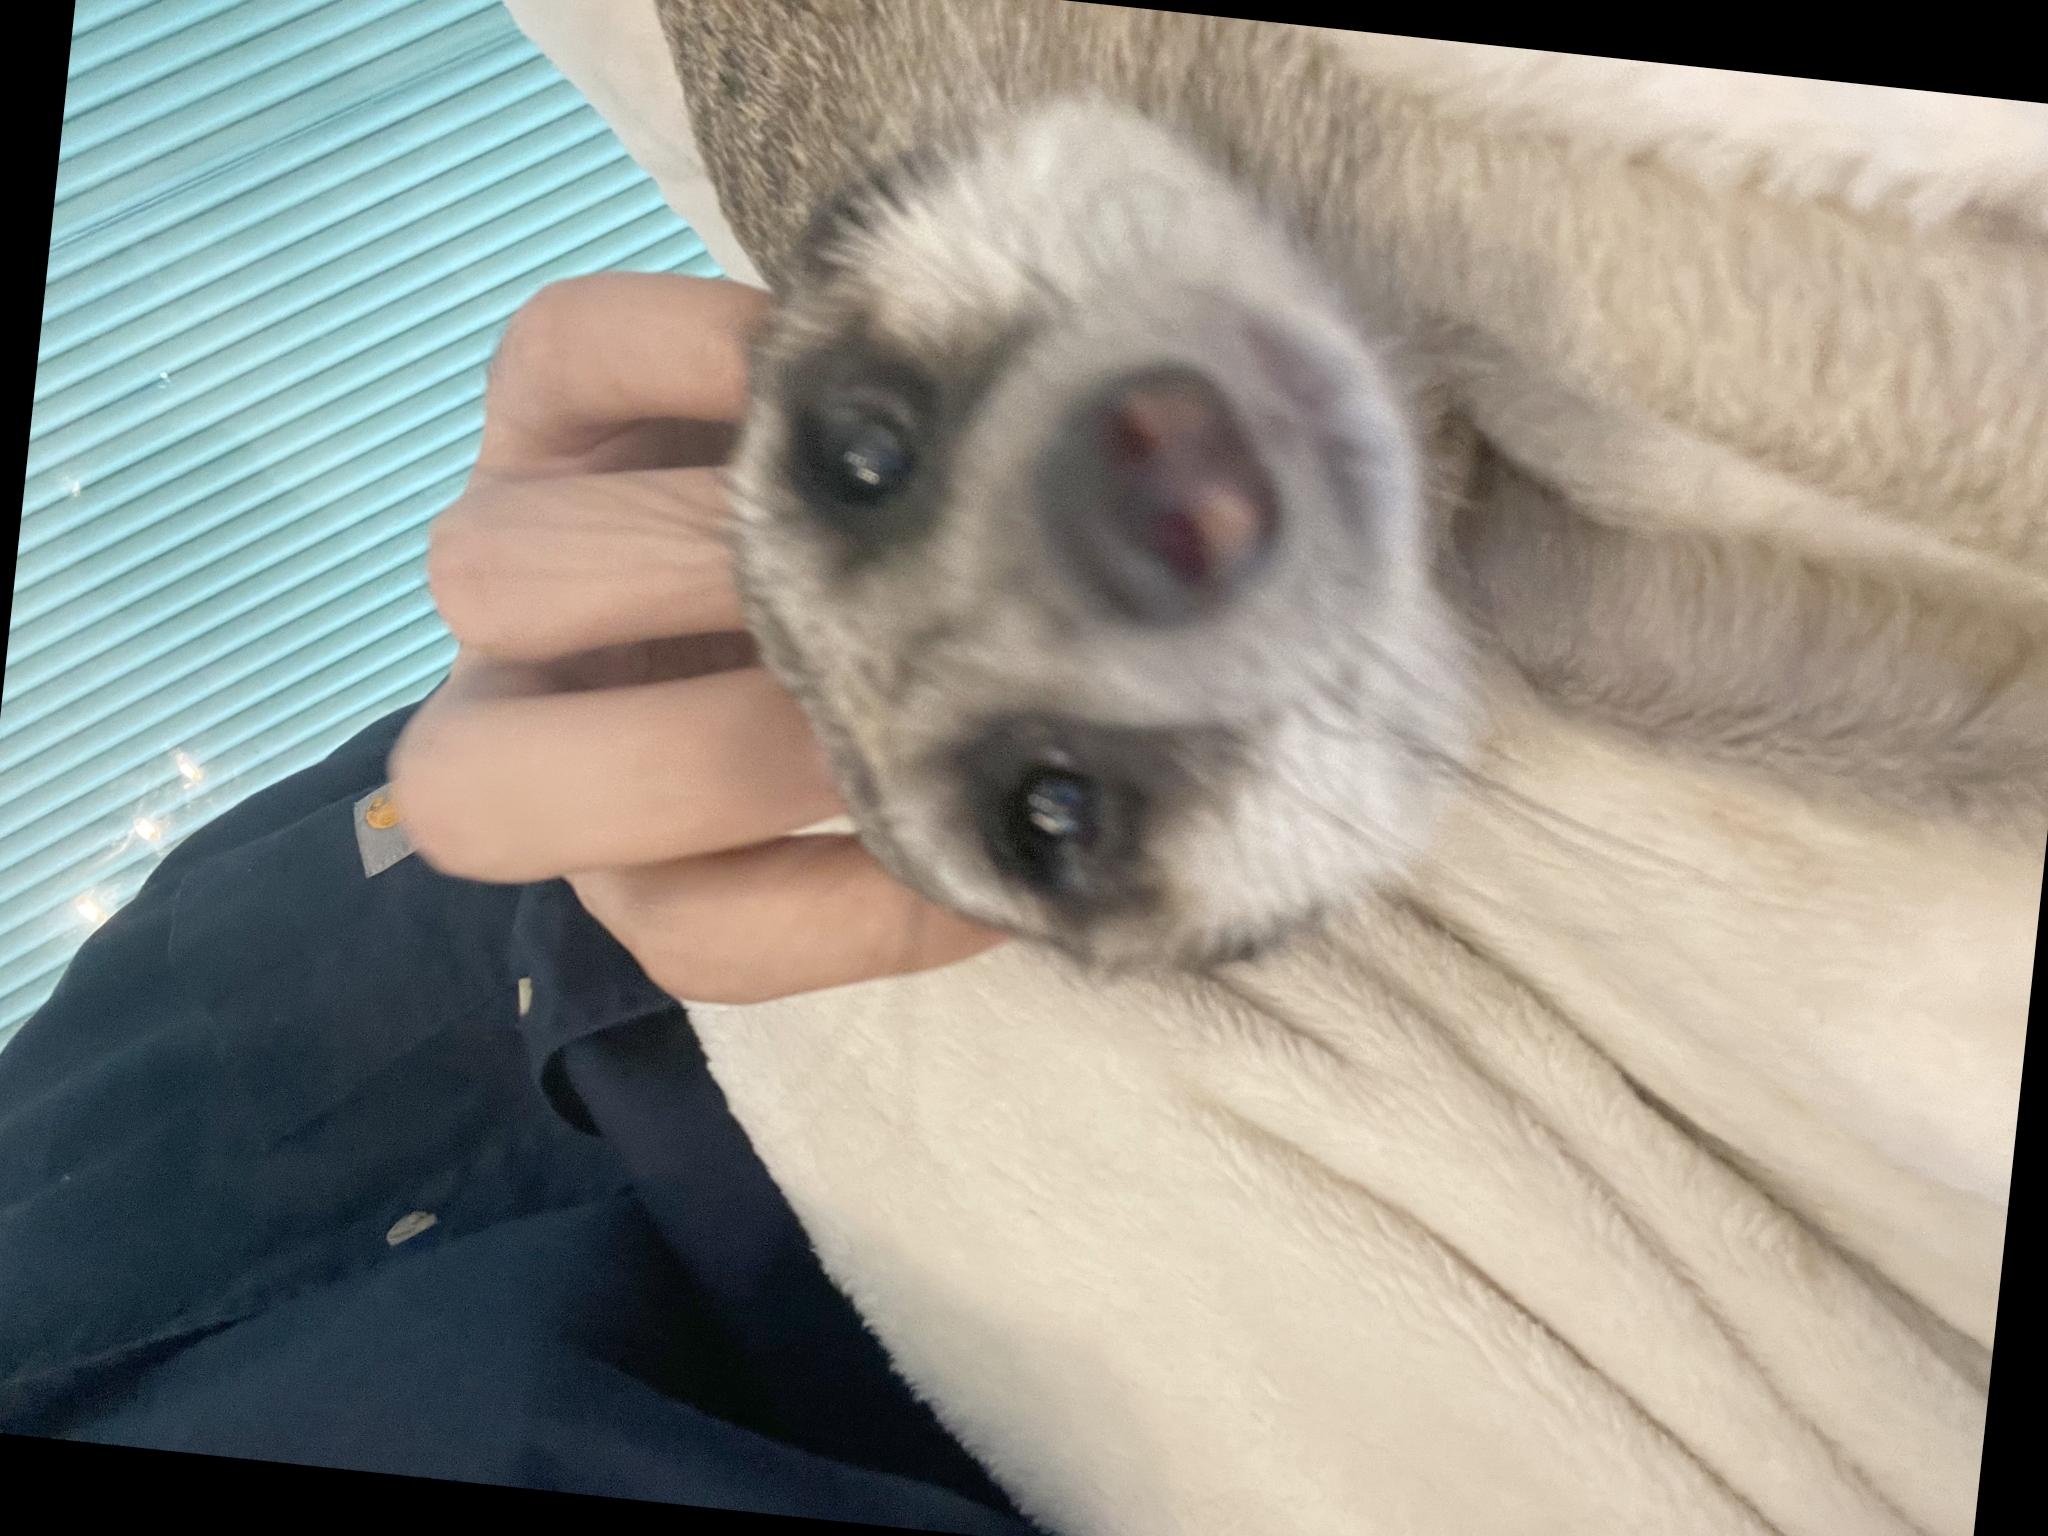meerkat: (0, 461, 1675, 1536)
